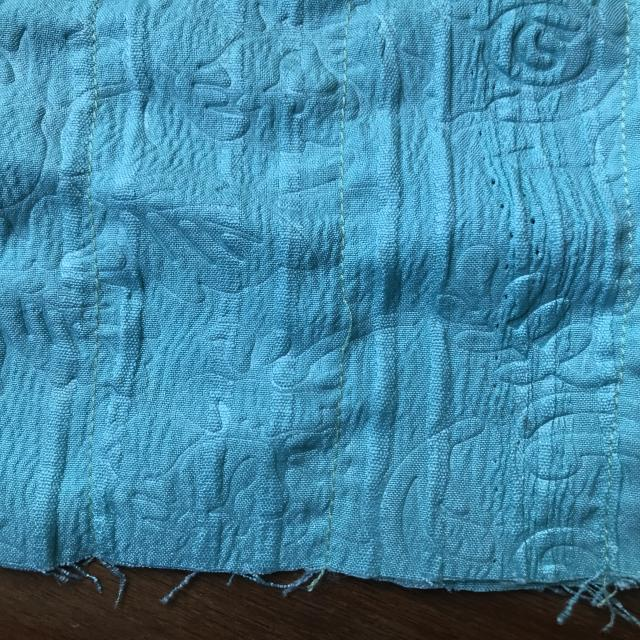skip: (331, 282, 364, 372)
